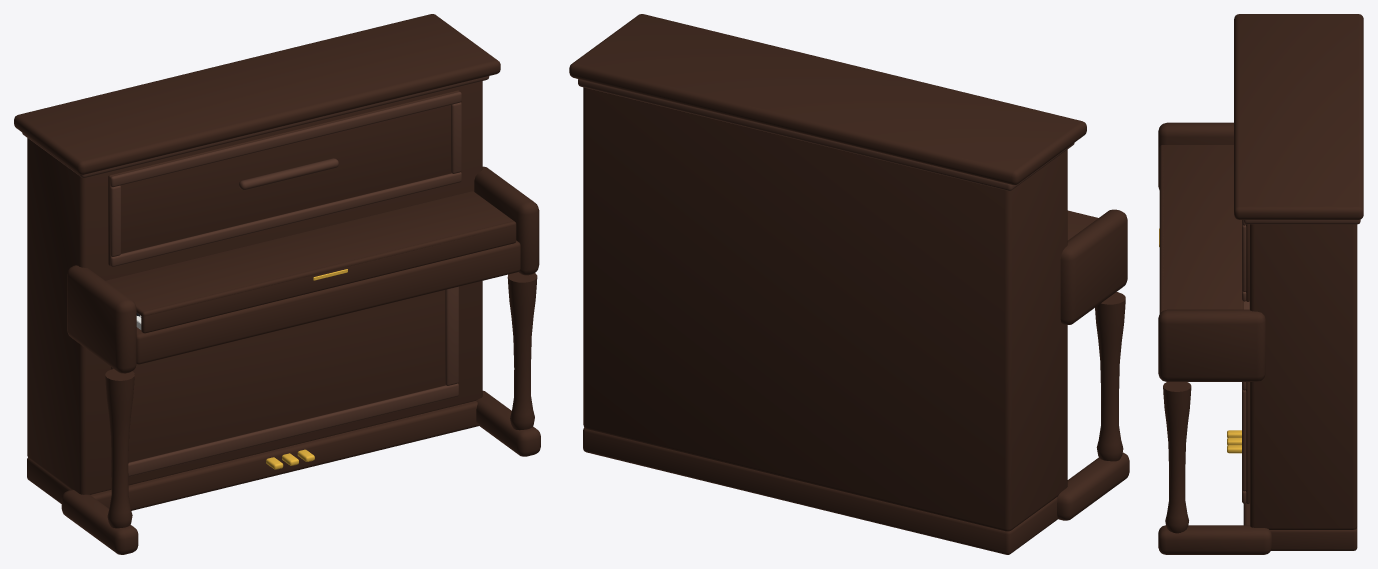
Rendered from piano_armario_chocolate.glb.
The picture shows the model from 3 angles, left to right: view 1: azimuth 30°, elevation 25°; view 2: azimuth 150°, elevation 25°; view 3: azimuth 270°, elevation 25°; orthographic projection. The views are drawn at different scales.
Visible parts, largest first — view 1: piano_armario_chocolate, tampa_teclado; view 2: piano_armario_chocolate; view 3: piano_armario_chocolate, tampa_teclado.
Part boxes in pixels (<box>): piano_armario_chocolate: <box>14,14,540,554</box>; tampa_teclado: <box>105,191,516,333</box>; piano_armario_chocolate: <box>569,14,1129,554</box>; piano_armario_chocolate: <box>1158,14,1363,554</box>; tampa_teclado: <box>1159,145,1243,313</box>.
Size of the model in its own units: 1.49 by 1.22 by 0.65.
1 material, 1 textured.
